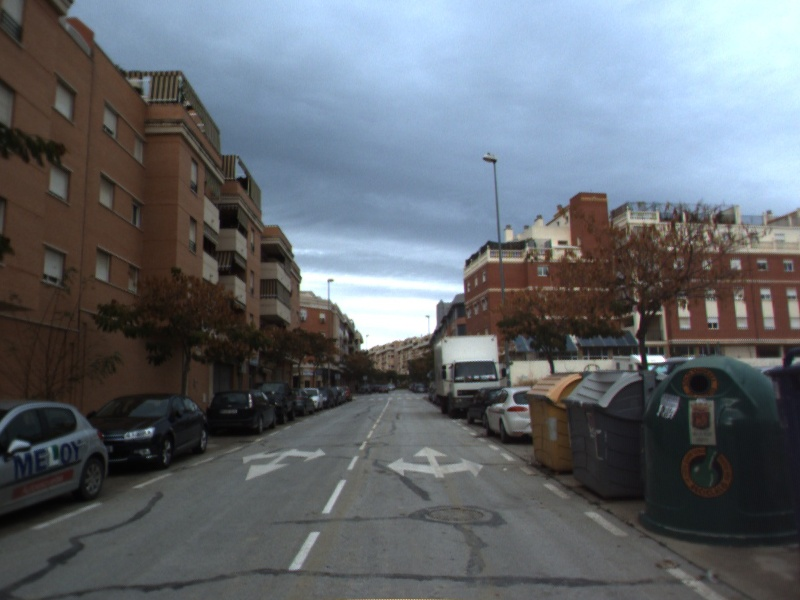STRAIGHT_LEFT_RIGHT: (385, 443, 485, 480)
